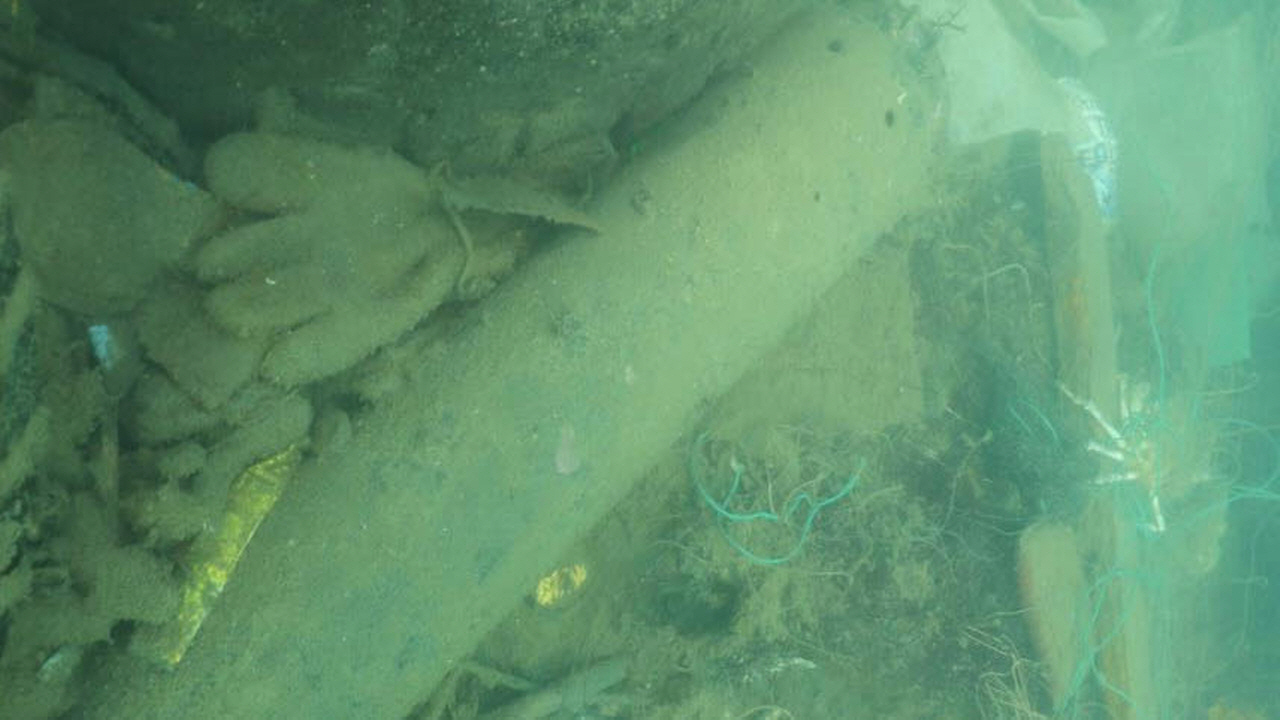eel fish trap: (59, 0, 936, 720)
